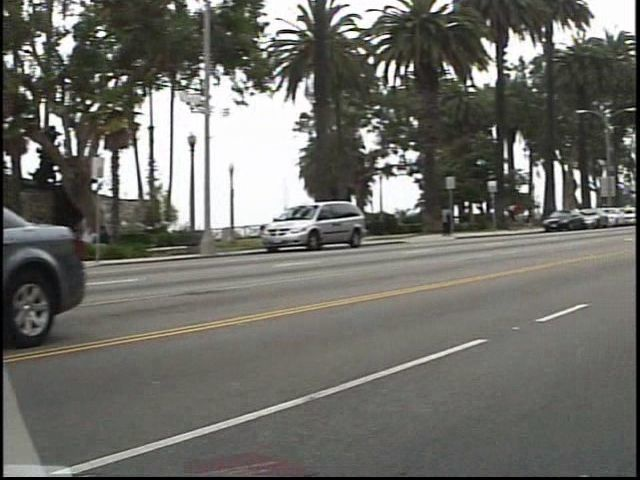person: (447, 202, 469, 241), (517, 198, 536, 233)
